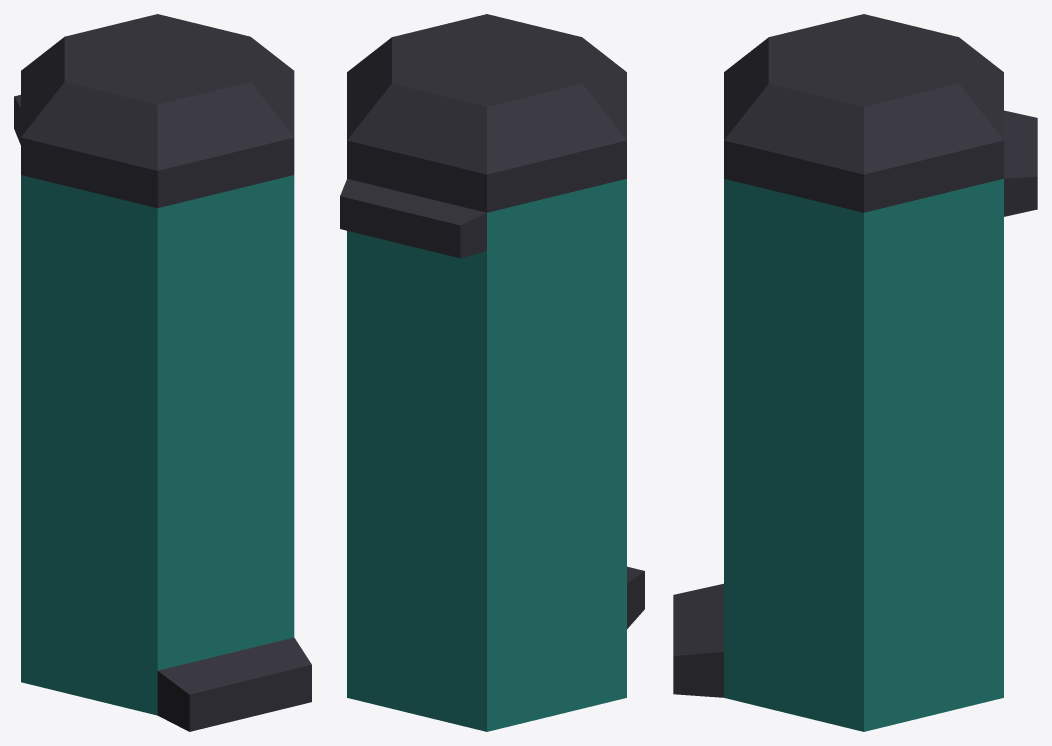
The model's file is bin_teal.glb.
3 renders of one model, left to right at view 1: azimuth 30°, elevation 25°; view 2: azimuth 150°, elevation 25°; view 3: azimuth 270°, elevation 25°, orthographic. The views are drawn at different scales.
Parts seen in each view (by area): view 1: bin_teal; view 2: bin_teal; view 3: bin_teal.
Boxes of the visible parts, <box> form: bin_teal: <box>14,14,311,731</box>; bin_teal: <box>340,14,644,731</box>; bin_teal: <box>673,14,1037,731</box>.
Bounding box in the file's own units: 0.2077 × 0.4279 × 0.2341.
